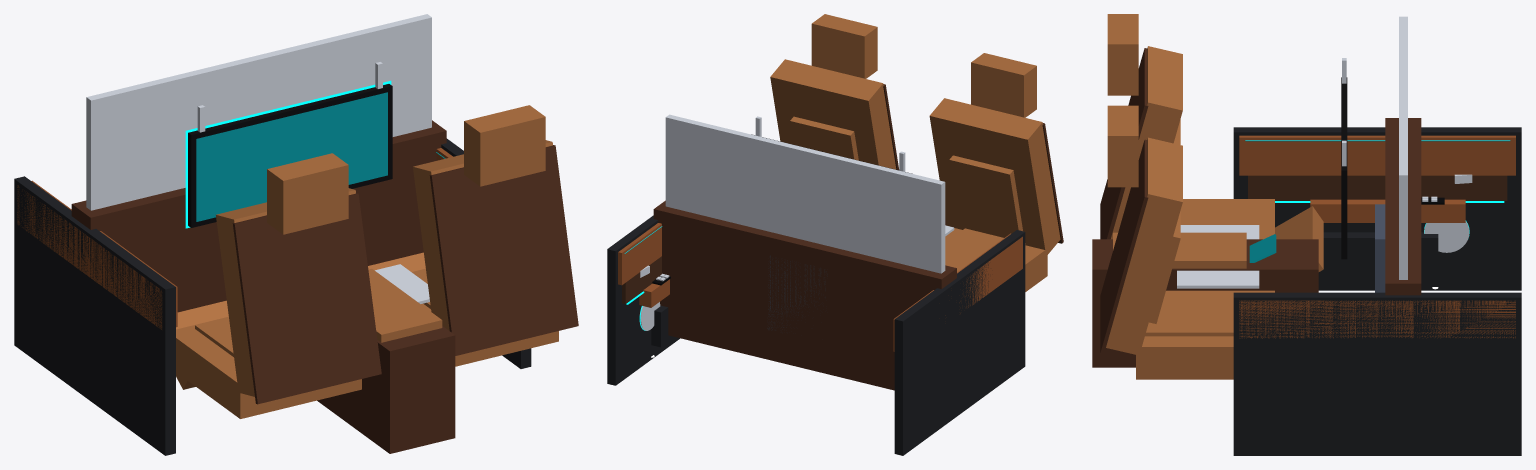
File: cockpit_executive_theater.glb
3 views of the same model, side by side, from view 1: azimuth 30°, elevation 25°; view 2: azimuth 150°, elevation 25°; view 3: azimuth 270°, elevation 25° (orthographic). The views are drawn at different scales.
Parts seen in each view (by area): view 1: Chauffeur_PrivacyPartition_Wall, RearSeat_Left, RearSeat_Right, Door_BackingShell (×2), Motorized_TheaterScreen_Assembly, Executive_CenterWaterfall_Console, Door_UpperLeatherSill; view 2: Chauffeur_PrivacyPartition_Wall, Door_BackingShell (×2), RearSeat_Left, RearSeat_Right, Door_UpperLeatherSill (×2), Door_MidAccentSpear, Door_LowerStorageMapPocket, Door_FloatingPaddedArmrest; view 3: Door_BackingShell (×2), RearSeat_Right, Door_UpperLeatherSill (×2), RearSeat_Left, Executive_CenterWaterfall_Console, Chauffeur_PrivacyPartition_Wall, Door_MidAccentSpear, Door_LowerStorageMapPocket, Door_FloatingPaddedArmrest, Motorized_TheaterScreen_Assembly, Door_AcousticSpeakerGrille, DoorCard_Left.
Boxes of the visible parts, x1,y1,x2,y2 form: Chauffeur_PrivacyPartition_Wall: (71,14,446,312); RearSeat_Left: (176,153,381,418); RearSeat_Right: (368,105,578,366); Door_BackingShell (×2): (14,138,531,455); Motorized_TheaterScreen_Assembly: (185,62,392,228); Executive_CenterWaterfall_Console: (317,264,455,453); Door_UpperLeatherSill: (17,180,177,329); Chauffeur_PrivacyPartition_Wall: (653,114,956,390); Door_BackingShell (×2): (607,215,1025,455); RearSeat_Left: (929,53,1063,291); RearSeat_Right: (770,14,899,170); Door_UpperLeatherSill (×2): (618,223,1022,351); Door_MidAccentSpear: (622,256,661,303); Door_LowerStorageMapPocket: (651,305,674,347); Door_FloatingPaddedArmrest: (639,279,669,307); Door_BackingShell (×2): (1233,127,1521,455); RearSeat_Right: (1100,105,1274,379); Door_UpperLeatherSill (×2): (1239,135,1515,338); RearSeat_Left: (1100,14,1323,271); Executive_CenterWaterfall_Console: (1092,225,1318,367); Chauffeur_PrivacyPartition_Wall: (1375,16,1421,295); Door_MidAccentSpear: (1248,175,1507,200); Door_LowerStorageMapPocket: (1318,232,1438,278); Door_FloatingPaddedArmrest: (1310,199,1465,222); Motorized_TheaterScreen_Assembly: (1341,58,1347,259); Door_AcousticSpeakerGrille: (1424,221,1469,252); DoorCard_Left: (1245,140,1510,235).
Size of the model in its own units: 1.57 by 1.27 by 1.67.
